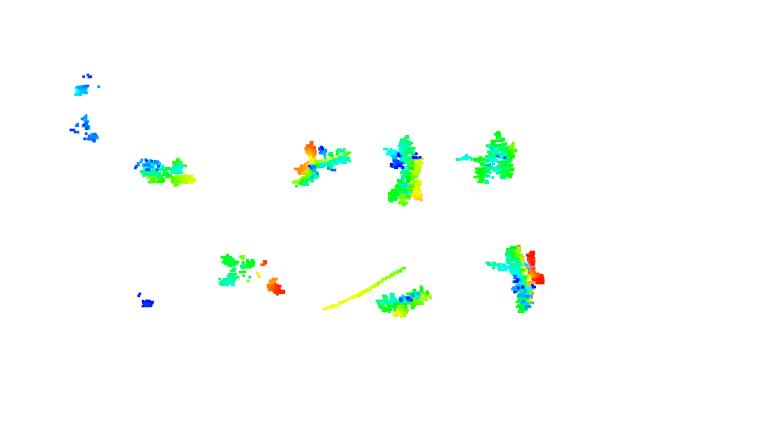chickpea: (483, 243, 548, 314), (454, 129, 520, 188), (215, 253, 287, 298), (383, 133, 425, 208), (292, 140, 353, 191), (132, 154, 197, 190), (373, 284, 434, 317)
